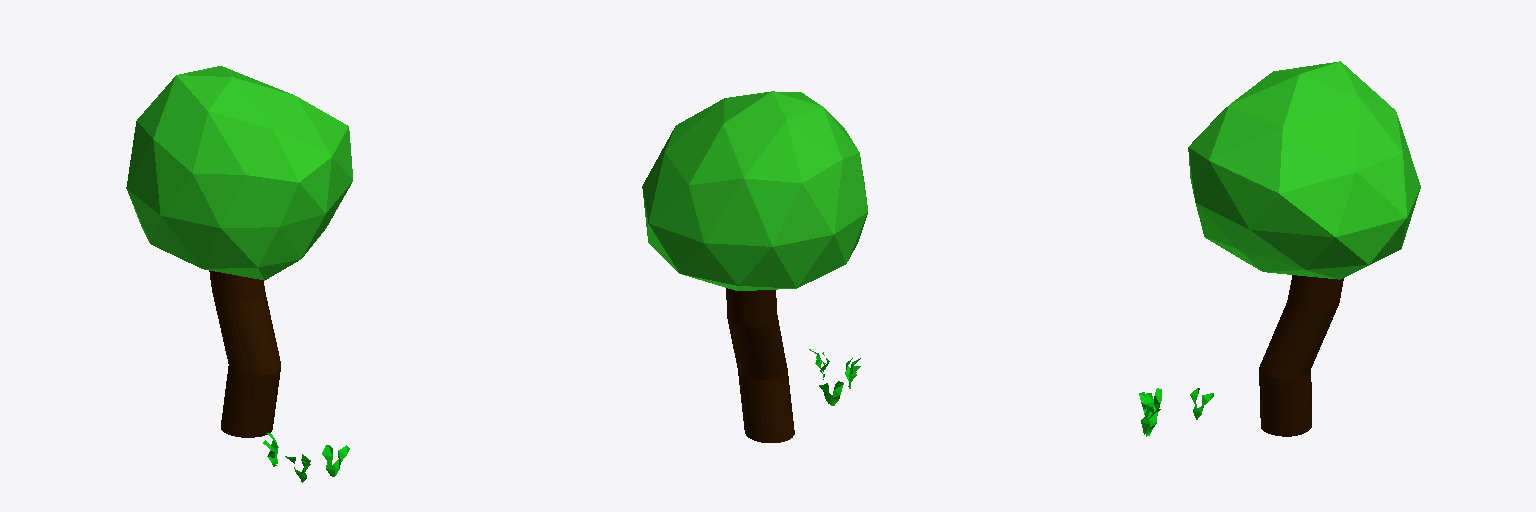
Rendered from Tree.obj.
3 renders of one model, left to right at view 1: azimuth 30°, elevation 25°; view 2: azimuth 150°, elevation 25°; view 3: azimuth 270°, elevation 25°, orthographic.
Parts seen in each view (by area): view 1: Icosphere, Cylinder; view 2: Icosphere, Cylinder; view 3: Icosphere, Cylinder.
Part boxes in pixels (left/top/right/bottom): Icosphere: left=126, top=66, right=352, bottom=280; Cylinder: left=209, top=270, right=280, bottom=437; Icosphere: left=642, top=91, right=867, bottom=290; Cylinder: left=726, top=288, right=794, bottom=442; Icosphere: left=1188, top=61, right=1420, bottom=279; Cylinder: left=1259, top=275, right=1343, bottom=436.
Size of the model in its own units: 0.9286 by 1.59 by 1.16.